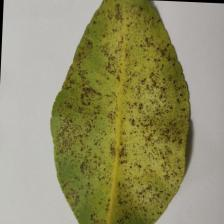canker: (78, 52, 181, 208)
